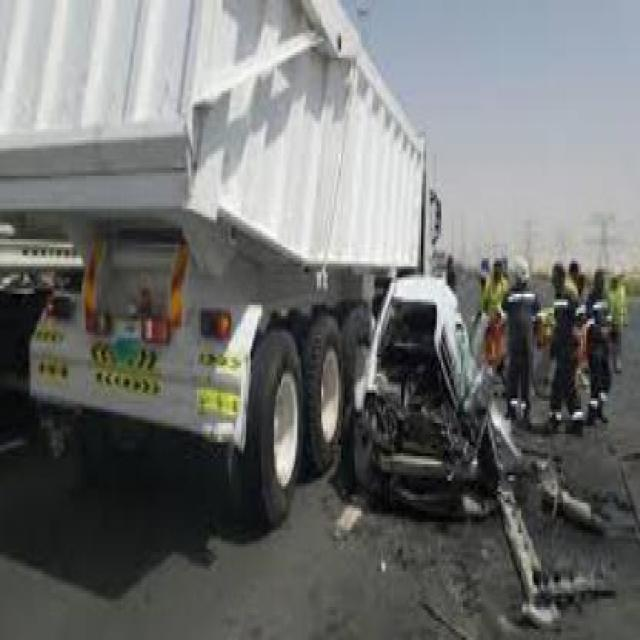accident: (0, 0, 515, 522)
